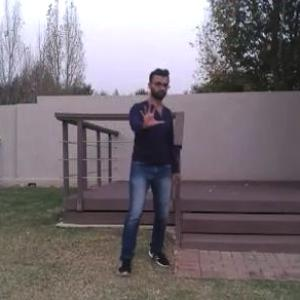follow_hand: (134, 98, 167, 134)
